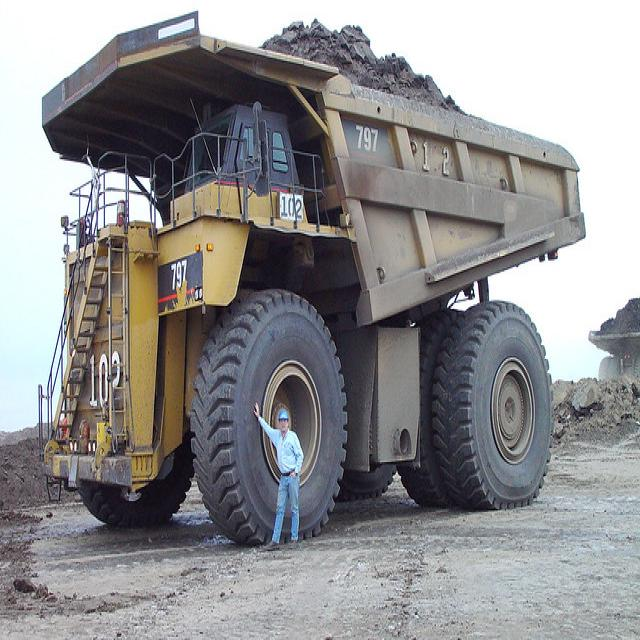dump_truck: (35, 13, 590, 543)
